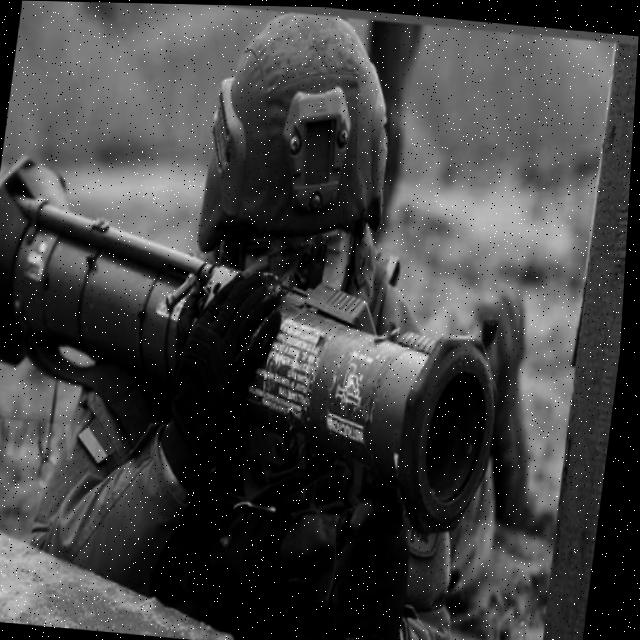rocket: (0, 115, 532, 573)
